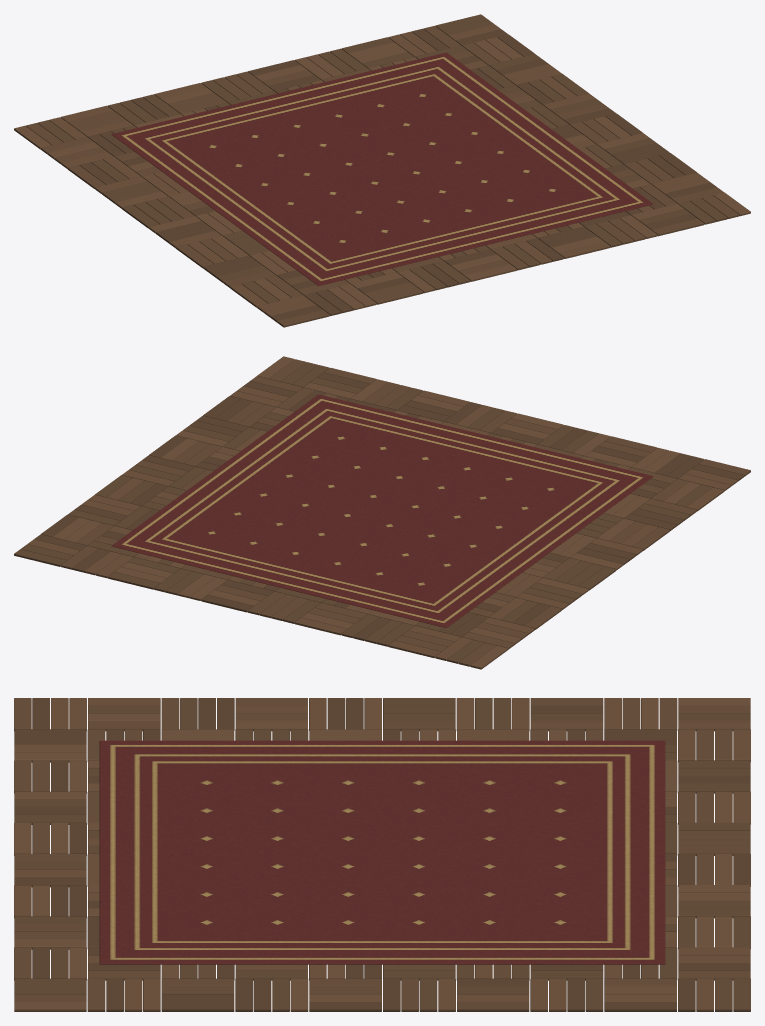
File: gaming-floor.glb
The picture shows the model from 3 angles, top to bottom: view 1: azimuth 30°, elevation 25°; view 2: azimuth 150°, elevation 25°; view 3: azimuth 270°, elevation 25°; orthographic projection. The views are drawn at different scales.
Visible parts, largest first — view 1: woven table rug, parquet strip, parquet strip.013, parquet strip.001, parquet strip.006, parquet strip.002; view 2: woven table rug, parquet strip, parquet strip.013, parquet strip.001, parquet strip.006, parquet strip.002; view 3: woven table rug, parquet strip, parquet strip.013, parquet strip.001, parquet strip.006, parquet strip.002.
Part boxes in pixels (x1=…): woven table rug: x1=111, y1=52, x2=653, y2=285; parquet strip: x1=26, y1=26, x2=739, y2=327; parquet strip.013: x1=37, y1=14, x2=727, y2=303; parquet strip.001: x1=79, y1=28, x2=716, y2=322; parquet strip.006: x1=14, y1=37, x2=750, y2=310; parquet strip.002: x1=49, y1=24, x2=710, y2=317; woven table rug: x1=111, y1=394, x2=653, y2=627; parquet strip: x1=60, y1=359, x2=750, y2=666; parquet strip.013: x1=14, y1=362, x2=712, y2=663; parquet strip.001: x1=34, y1=372, x2=744, y2=640; parquet strip.006: x1=53, y1=356, x2=700, y2=669; parquet strip.002: x1=28, y1=386, x2=737, y2=660; woven table rug: x1=99, y1=740, x2=665, y2=964; parquet strip: x1=14, y1=698, x2=750, y2=1011; parquet strip.013: x1=14, y1=698, x2=750, y2=1011; parquet strip.001: x1=14, y1=698, x2=750, y2=1011; parquet strip.006: x1=14, y1=698, x2=750, y2=1011; parquet strip.002: x1=14, y1=698, x2=750, y2=1011.
Size of the model in its own units: 5.99 by 0.037 by 5.99.
6 materials, 1 textured.
